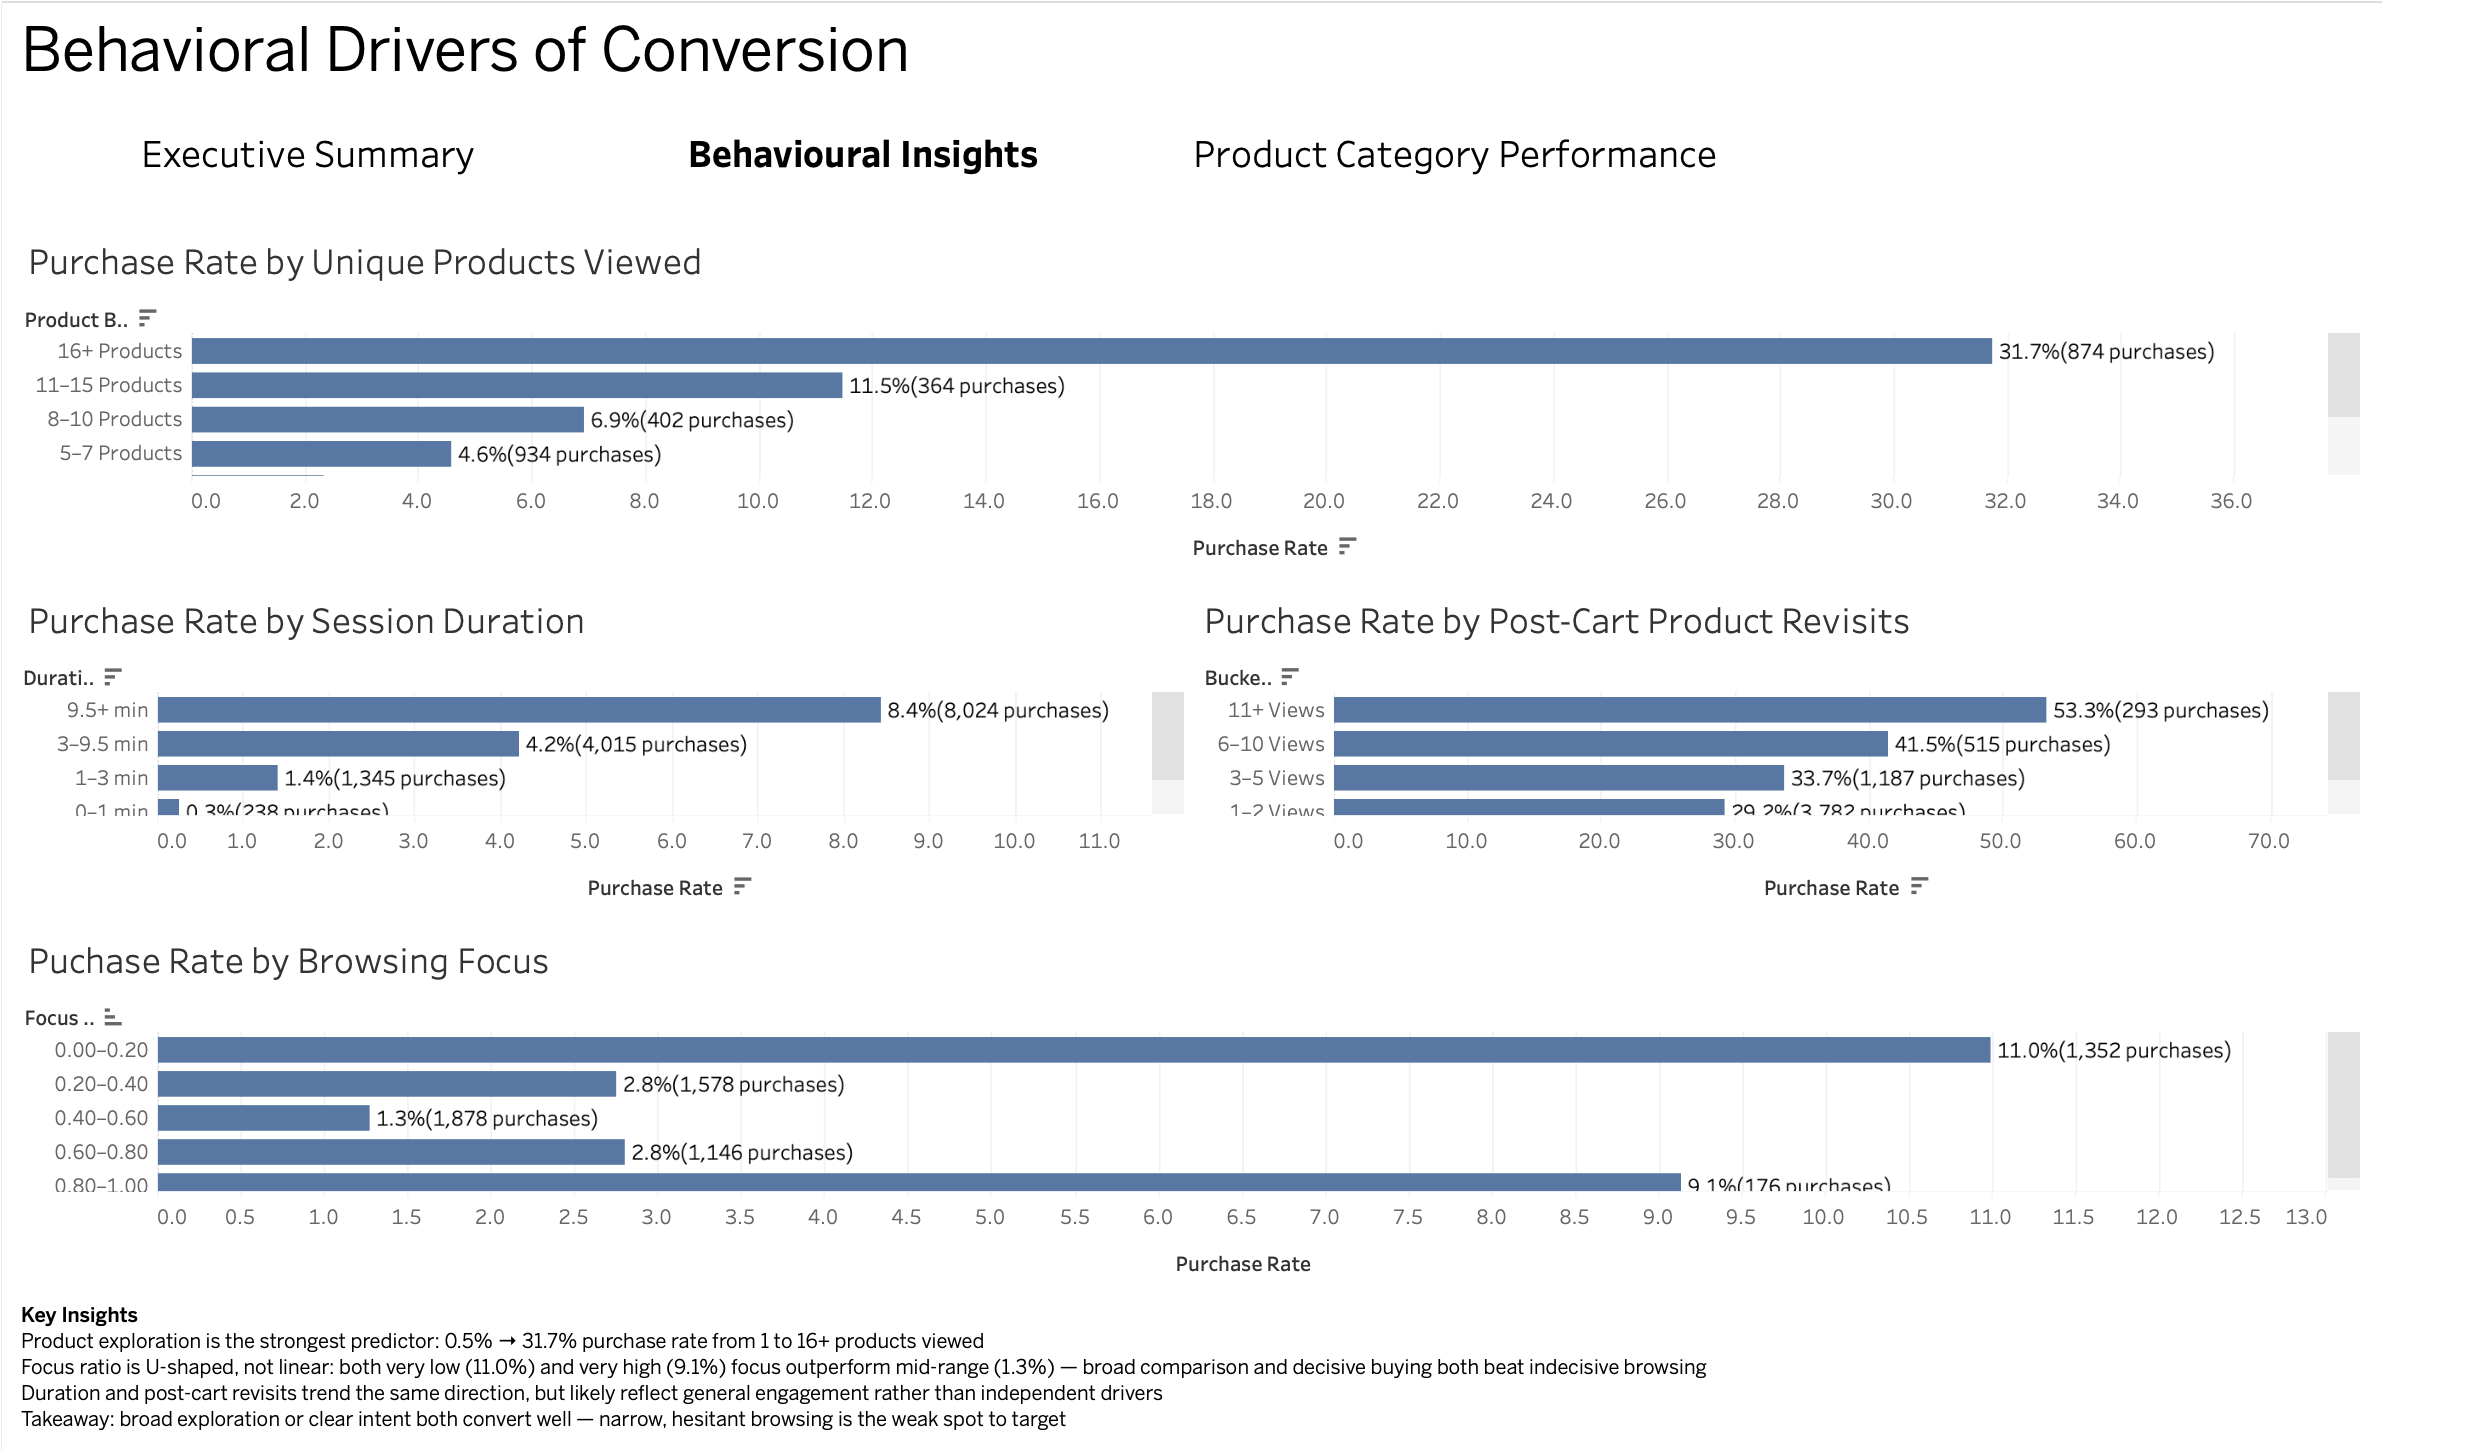

This screenshot's page, from the dashboard's own definition file:
{"tool":"tableau","page":{"name":"Behavioral Insights","canvas":[1400,900],"ordinal":0},"visuals":[{"type":"text","box":[8,8,1384,41]},{"type":"dashboard-object","box":[8,49,346,79]},{"type":"dashboard-object","box":[354,49,307,79]},{"type":"dashboard-object","box":[661,49,389,79]},{"type":"worksheet","title":"Purchase Rate by Unique Products Viewed","mark":"Bar","rows":["product_bucket"],"cols":["purchase_rate"],"box":[8,128,1384,211]},{"type":"worksheet","title":"Purchase Rate by Session Duration","mark":"Bar","rows":["duration_label"],"cols":["purchase_rate"],"box":[8,339,692,200]},{"type":"worksheet","title":"Purchase Rate by Post-Cart Product Revisits","mark":"Bar","rows":["bucket_label"],"cols":["purchase_rate"],"box":[700,339,692,200]},{"type":"worksheet","title":"Purchase Rate by Browsing Focus","mark":"Automatic","rows":["focus_bucket"],"cols":["purchase_rate"],"box":[8,539,1384,221]},{"type":"text","box":[8,760,1384,87]}]}

Visuals, with their boxes on the page's 1400x900 design canvas (x1, y1, x2, y2). These are canvas units, not pixel positions in the 2470x1450 screenshot, which may show the page scaled, cropped or inside an application window:
text: [8,8,1392,49]
dashboard-object: [8,49,354,128]
dashboard-object: [354,49,661,128]
dashboard-object: [661,49,1050,128]
"Purchase Rate by Unique Products Viewed" worksheet (Bar marks): [8,128,1392,339]
"Purchase Rate by Session Duration" worksheet (Bar marks): [8,339,700,539]
"Purchase Rate by Post-Cart Product Revisits" worksheet (Bar marks): [700,339,1392,539]
"Purchase Rate by Browsing Focus" worksheet: [8,539,1392,760]
text: [8,760,1392,847]
